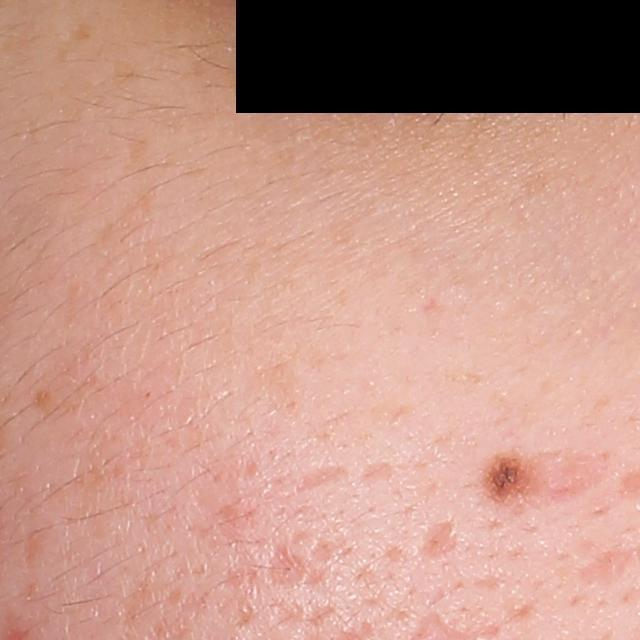atrophic_scar: (531, 446, 623, 506), (413, 516, 466, 566), (266, 595, 334, 629), (296, 462, 352, 493), (359, 457, 398, 484)
melasma: (92, 189, 151, 245), (69, 19, 98, 47)
nevus: (482, 453, 529, 511)
